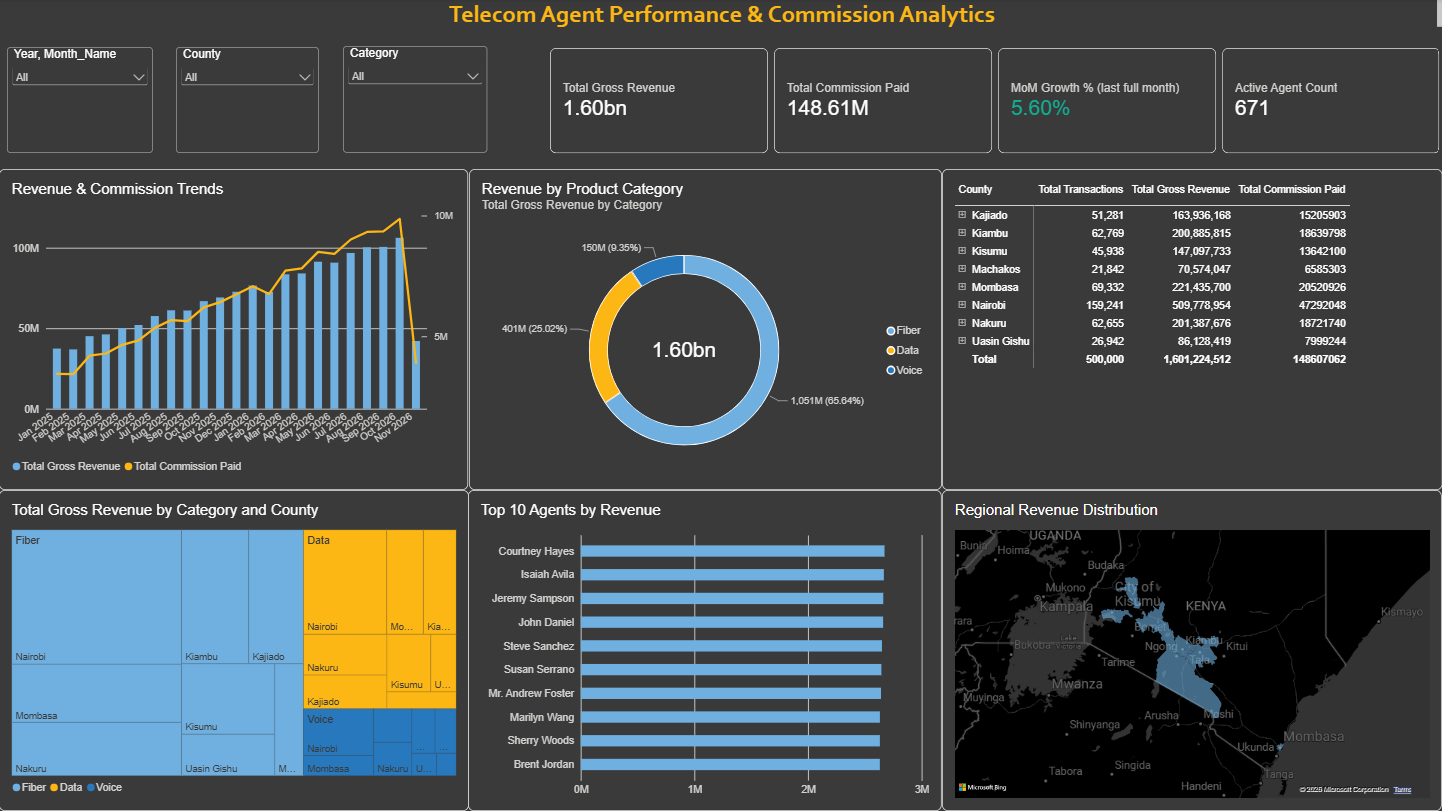

This screenshot's page, from the dashboard's own definition file:
{"tool":"powerbi","page":{"name":"Page 1","canvas":[1920,1080],"ordinal":0},"visuals":[{"type":"textbox","box":[10.2,0,1909.8,37.9],"z":0},{"type":"slicer","fields":{"Values":["Dim_Date.Year","Dim_Date.Month_Name"]},"box":[10.6,63.8,194.2,141],"z":1000},{"type":"slicer","fields":{"Values":["Dim_Agent.County"]},"box":[235.4,63.8,190.2,141],"z":2000},{"type":"slicer","fields":{"Values":["Dim_Product.Category"]},"box":[457.5,62.5,191.5,142.3],"z":3000},{"type":"cardVisual","fields":{"Data":["_Measures.Total Gross Revenue","_Measures.Total Commission Paid","_Measures.MoM Revenue Growth","_Measures.Active Agent Count"]},"box":[732.4,65.7,1187.6,140.1],"z":4000},{"type":"filledMap","title":"Regional Revenue Distribution","fields":{"Category":["Dim_Agent.County"]},"box":[1254.2,653.1,666.4,426.9],"z":5000},{"type":"lineStackedColumnComboChart","title":"Revenue & Commission Trends","fields":{"Category":["Dim_Date.Year_Month"],"Y":["_Measures.Total Gross Revenue"],"Y2":["_Measures.Total Commission Paid"]},"box":[0,226.1,623.8,426.9],"z":6000},{"type":"clusteredBarChart","title":"Top 10 Agents by Revenue","fields":{"Category":["Dim_Agent.Agent_Name"],"Y":["_Measures.Total Gross Revenue"]},"box":[623.8,653.1,630.4,426.9],"z":7000},{"type":"donutChart","title":"Revenue by Product Category","fields":{"Category":["Dim_Product.Category"],"Y":["_Measures.Total Gross Revenue"]},"box":[625.1,226.1,629.1,426.9],"z":8000},{"type":"pivotTable","fields":{"Rows":["Dim_Agent.County","Dim_Agent.Agent_Name"],"Values":["_Measures.Total Transactions","_Measures.Total Gross Revenue","_Measures.Total Commission Paid"]},"box":[1254,226,667,427],"z":9000},{"type":"treemap","fields":{"Details":["Dim_Agent.County"],"Group":["Dim_Product.Category"],"Values":["_Measures.Total Gross Revenue"]},"box":[0,653.1,625.1,426.9],"z":10000}]}

Visuals, with their boxes in screenshot pixels (x1, y1, x2, y2), scaled from the page's 1920x1080 canvas onto the 1442x811 screenshot:
textbox: left=8, top=0, right=1441, bottom=28
slicer - Dim_Date.Year x Dim_Date.Month_Name: left=8, top=48, right=154, bottom=154
slicer - Dim_Agent.County: left=177, top=48, right=320, bottom=154
slicer - Dim_Product.Category: left=344, top=47, right=487, bottom=154
cardVisual - _Measures.Total Gross Revenue x _Measures.Total Commission Paid: left=550, top=49, right=1441, bottom=155
"Regional Revenue Distribution" filledMap: left=942, top=490, right=1441, bottom=810
"Revenue & Commission Trends" lineStackedColumnComboChart: left=0, top=170, right=468, bottom=490
"Top 10 Agents by Revenue" clusteredBarChart: left=468, top=490, right=942, bottom=810
"Revenue by Product Category" donutChart: left=469, top=170, right=942, bottom=490
pivotTable - Dim_Agent.County x Dim_Agent.Agent_Name: left=942, top=170, right=1441, bottom=490
treemap - Dim_Agent.County x Dim_Product.Category: left=0, top=490, right=469, bottom=810
